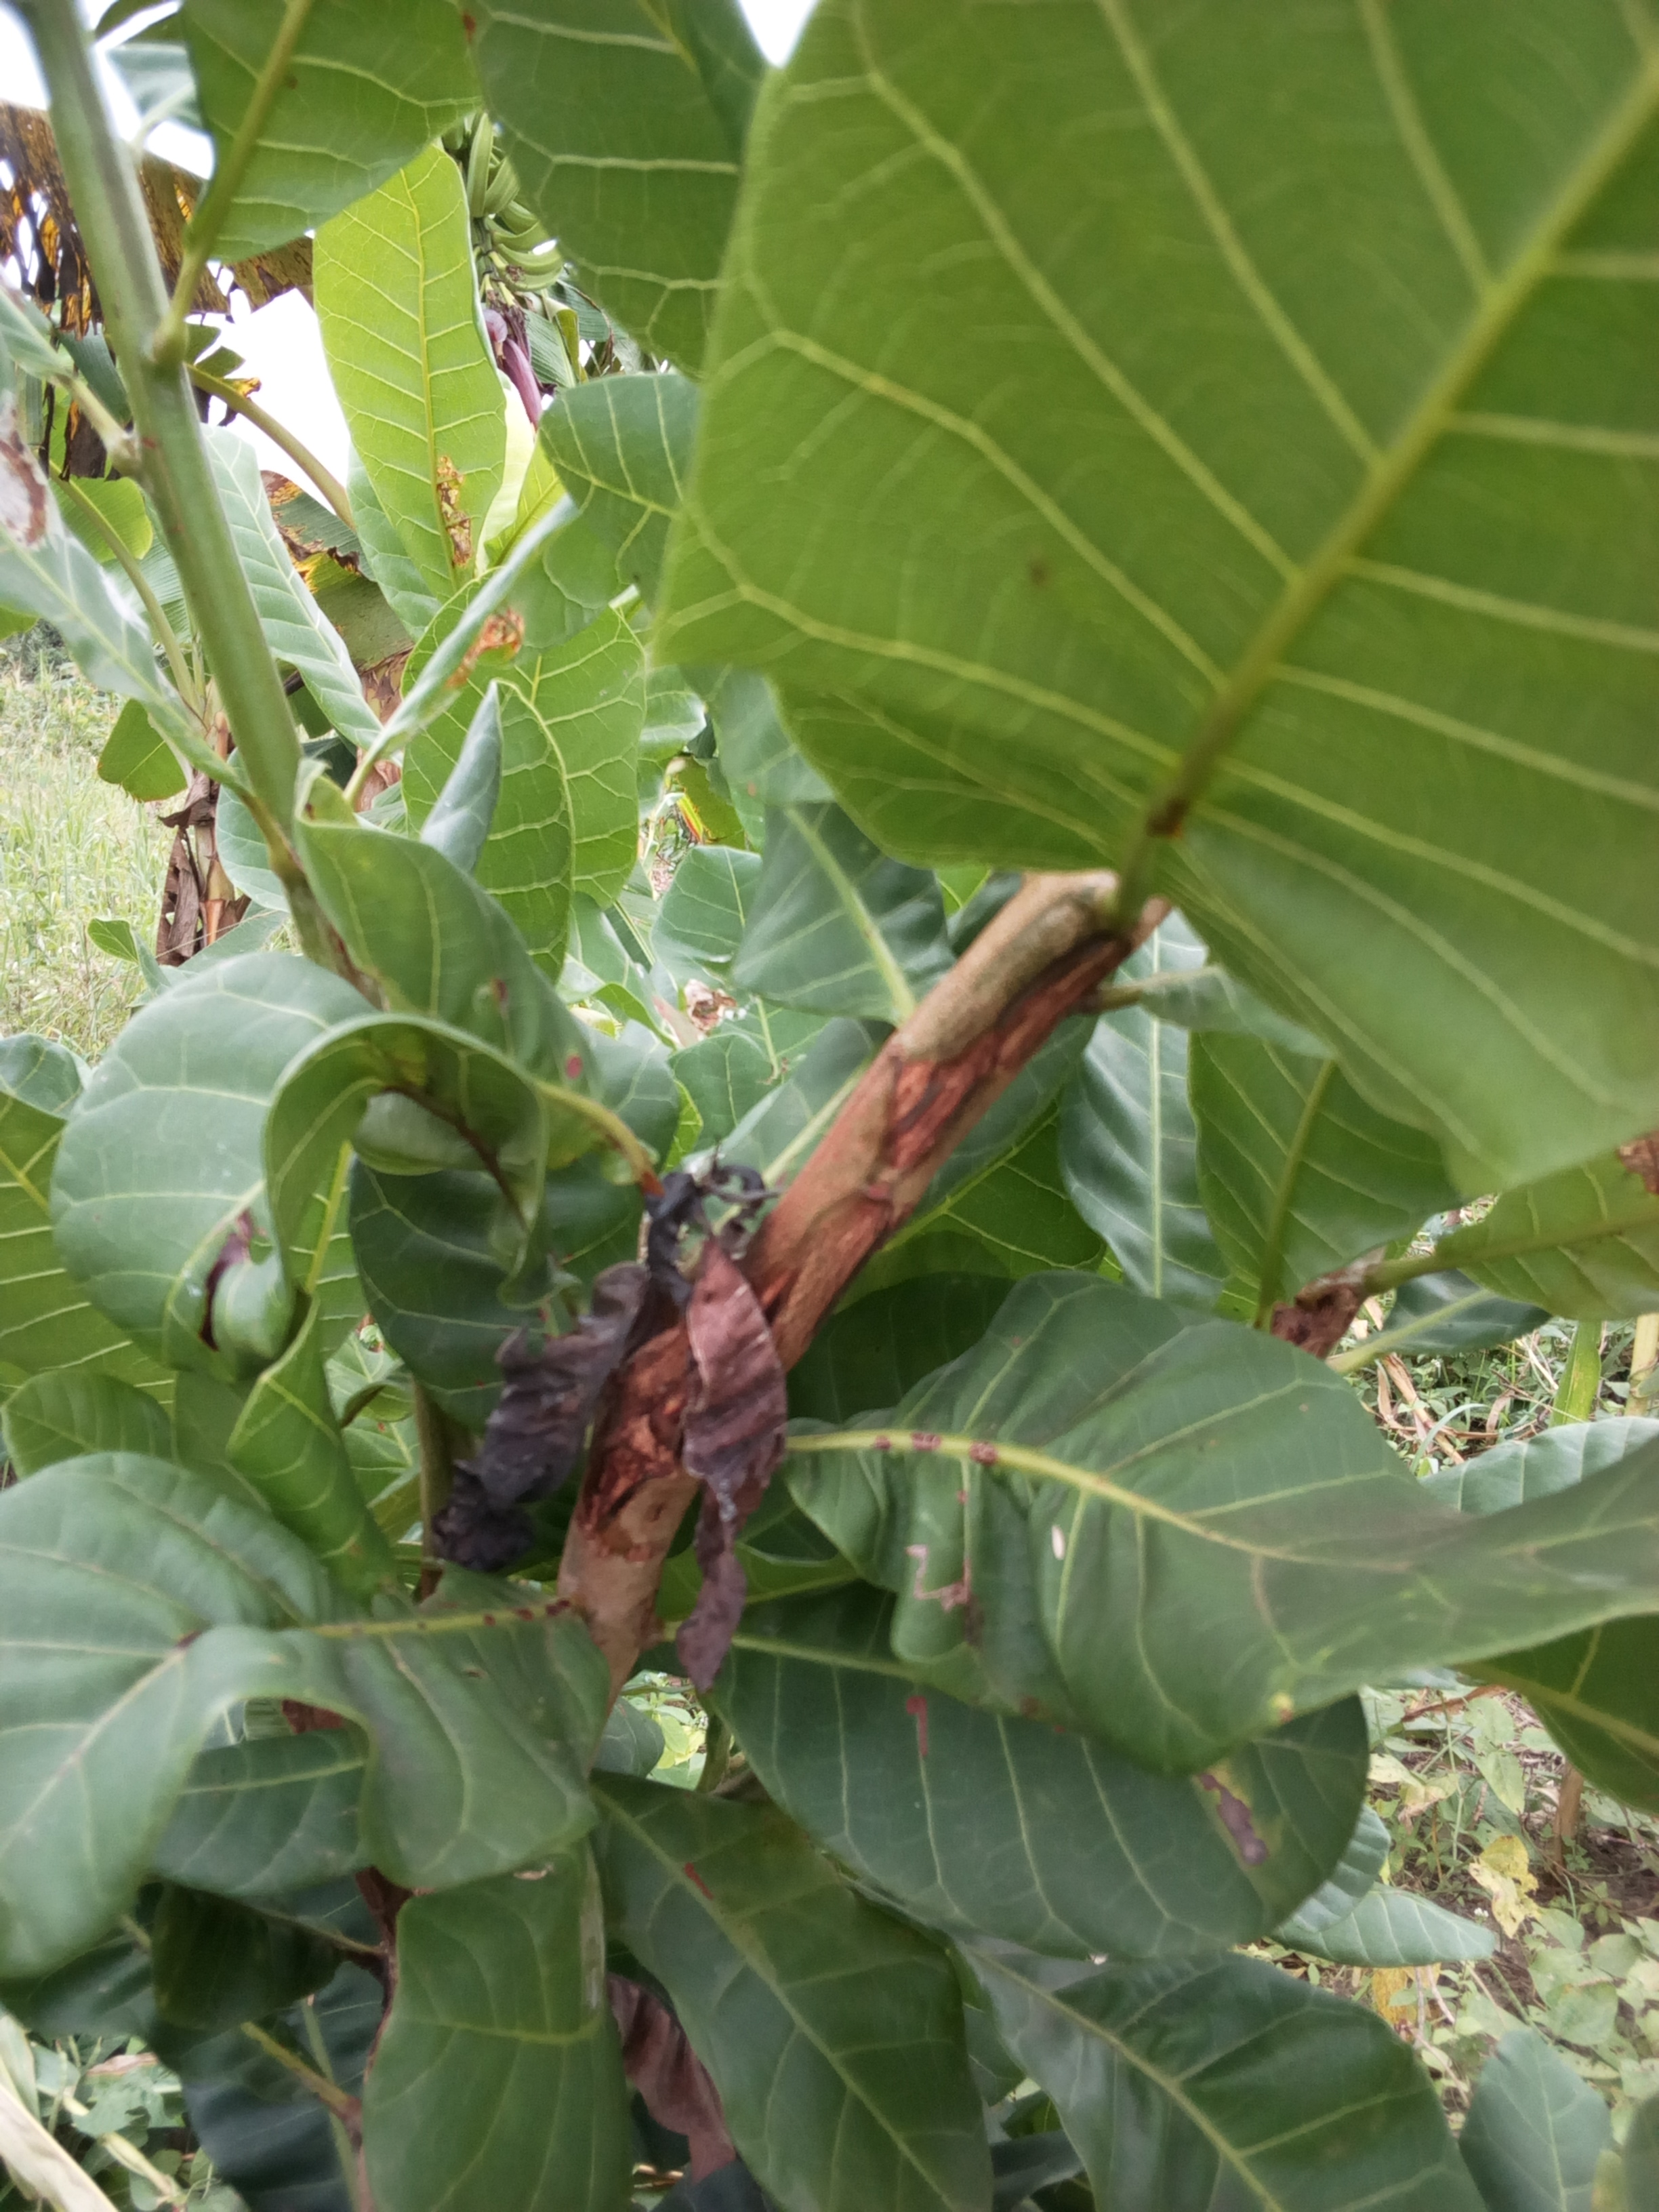Dessèchement des bourgeons: (521, 1191, 819, 1649)
